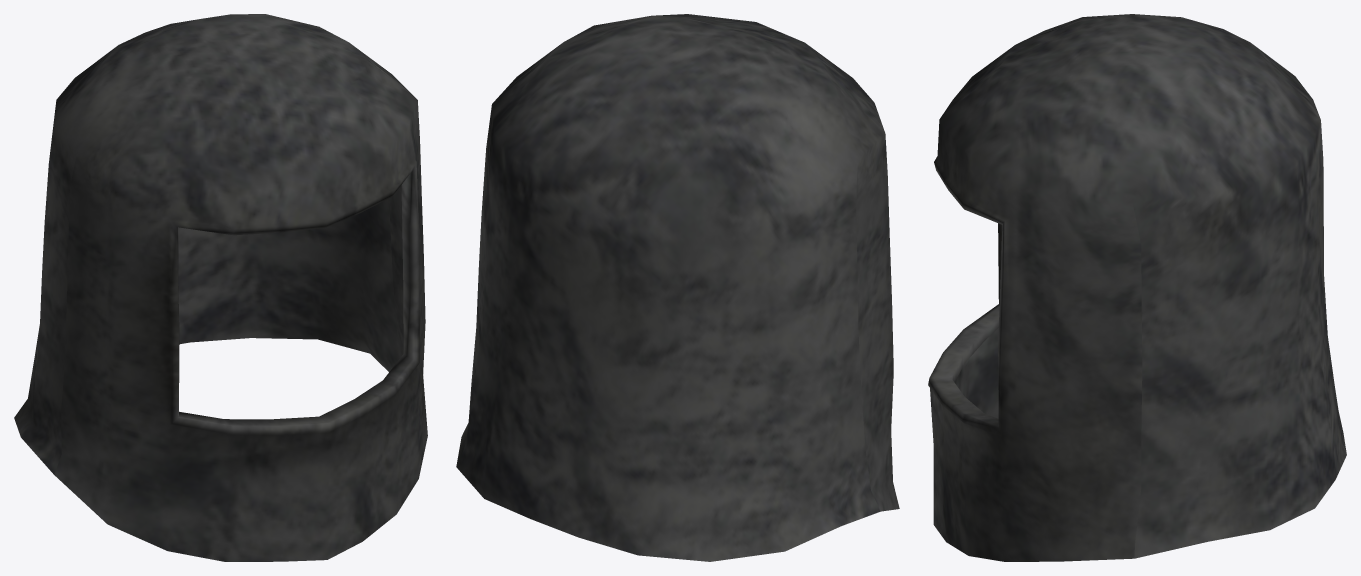
File: LavaHelmet.glb
3 views of the same model, side by side, from view 1: azimuth 30°, elevation 25°; view 2: azimuth 150°, elevation 25°; view 3: azimuth 270°, elevation 25° (orthographic). The views are drawn at different scales.
Parts seen in each view (by area): view 1: LavaHelmet; view 2: LavaHelmet; view 3: LavaHelmet.
Boxes of the visible parts, x1=… form: LavaHelmet: x1=14, y1=14, x2=427, y2=561; LavaHelmet: x1=456, y1=14, x2=899, y2=561; LavaHelmet: x1=928, y1=14, x2=1346, y2=561.
Size of the model in its own units: 26.5 by 32.21 by 25.18.
Materials: 1 (1 with a texture image).
